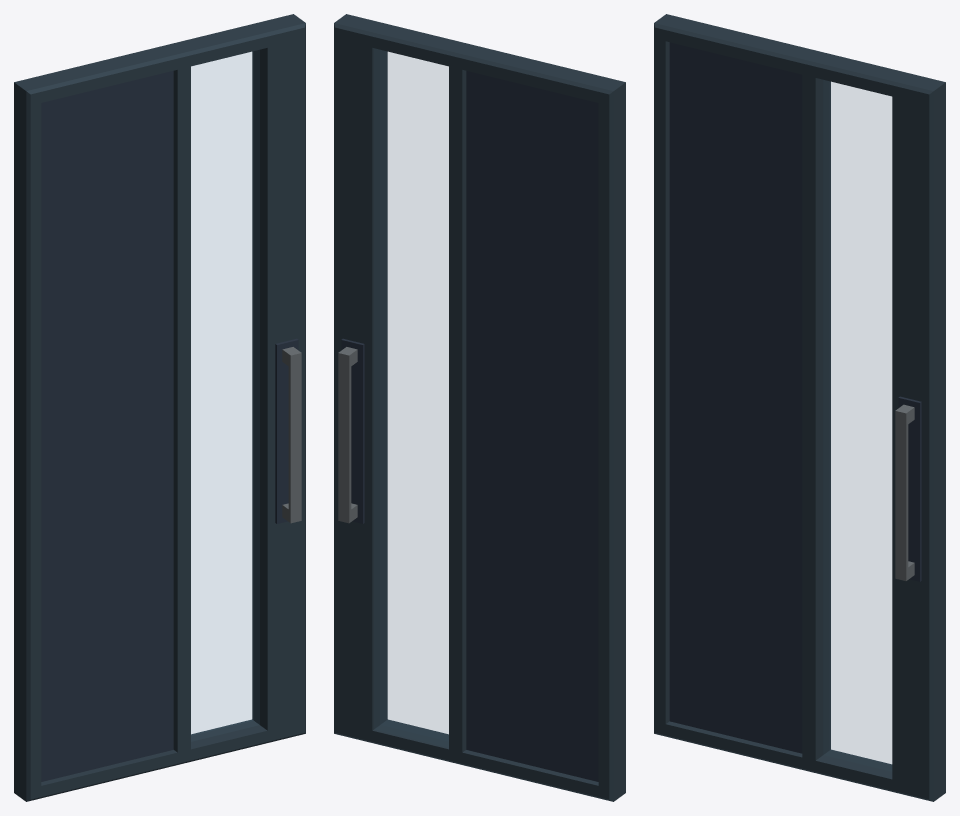
The model's file is SM_Buildings_Skyscraper_06_Door_L.fbx.
3 renders of one model, left to right at view 1: azimuth 30°, elevation 25°; view 2: azimuth 150°, elevation 25°; view 3: azimuth 330°, elevation 25°, orthographic.
Visible parts, largest first — view 1: SM_Buildings_Skyscraper_06_Door_L; view 2: SM_Buildings_Skyscraper_06_Door_L; view 3: SM_Buildings_Skyscraper_06_Door_L.
Boxes of the visible parts, x1=… form: SM_Buildings_Skyscraper_06_Door_L: x1=14, y1=14, x2=305, y2=801; SM_Buildings_Skyscraper_06_Door_L: x1=334, y1=14, x2=625, y2=801; SM_Buildings_Skyscraper_06_Door_L: x1=654, y1=14, x2=945, y2=801.
Bounding box in the file's own units: 1.05 × 2.55 × 0.2313.
